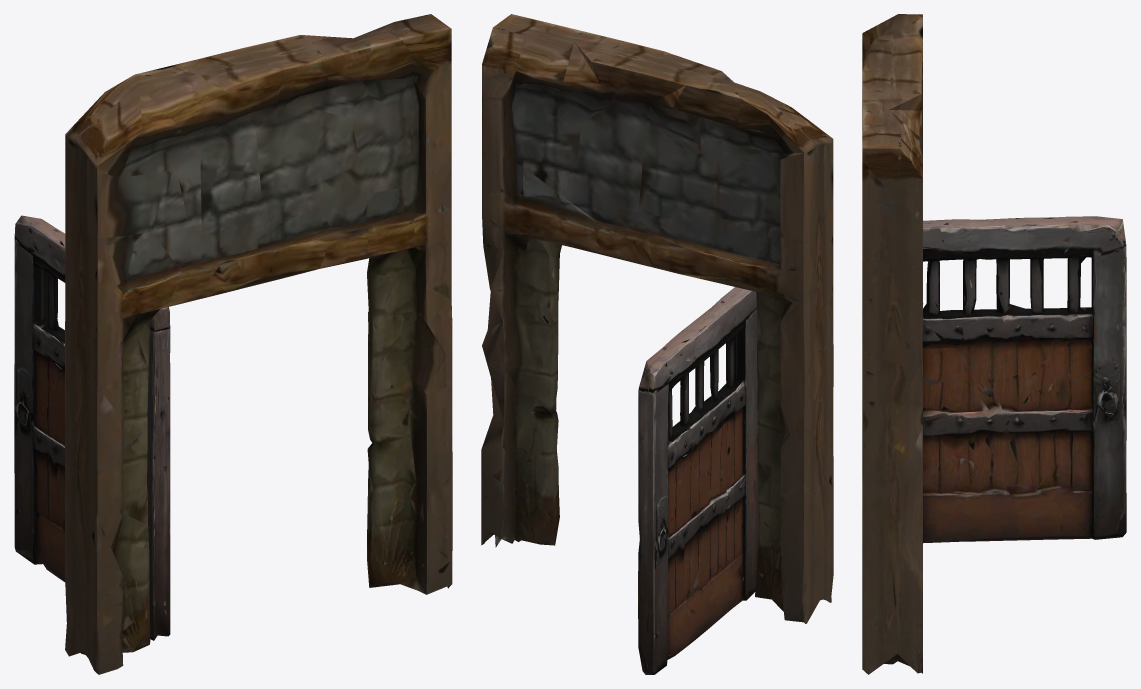
File: blk_door_open.glb
3 renders of one model, left to right at view 1: azimuth 30°, elevation 25°; view 2: azimuth 150°, elevation 25°; view 3: azimuth 270°, elevation 25°, orthographic. The views are drawn at different scales.
Visible parts, largest first — view 1: Meshy_AI_Dungeon_Gate_1215093133_texture, model; view 2: Meshy_AI_Dungeon_Gate_1215093133_texture, model; view 3: model, Meshy_AI_Dungeon_Gate_1215093133_texture.
Part boxes in pixels (x1,y1,x2,y2): Meshy_AI_Dungeon_Gate_1215093133_texture: [65, 14, 452, 674]; model: [14, 215, 170, 640]; Meshy_AI_Dungeon_Gate_1215093133_texture: [481, 14, 833, 623]; model: [638, 287, 758, 674]; model: [922, 216, 1126, 543]; Meshy_AI_Dungeon_Gate_1215093133_texture: [862, 14, 923, 674].
Size of the model in its own units: 2.01 by 3.05 by 1.38.
Materials: 2 (2 with a texture image).
